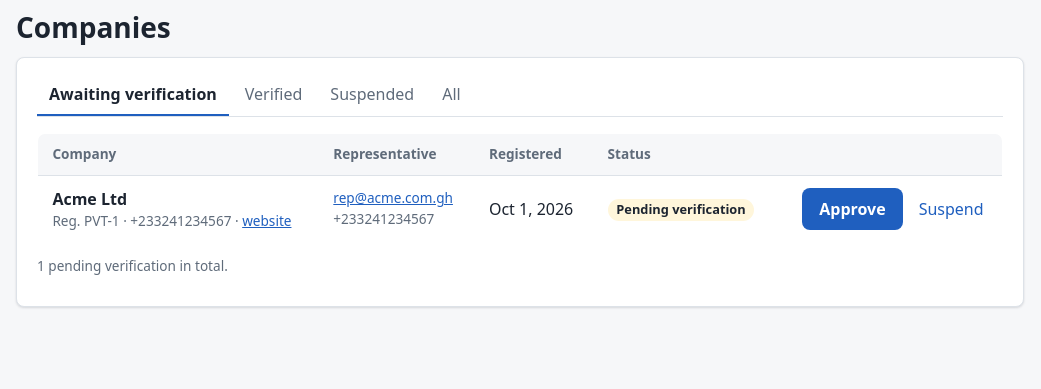
Test: CompaniesPage (US-04, US-12) › approves after confirmation and says the reps were notified
Click the button "Approve" at (852, 209), box [802,188,903,230]
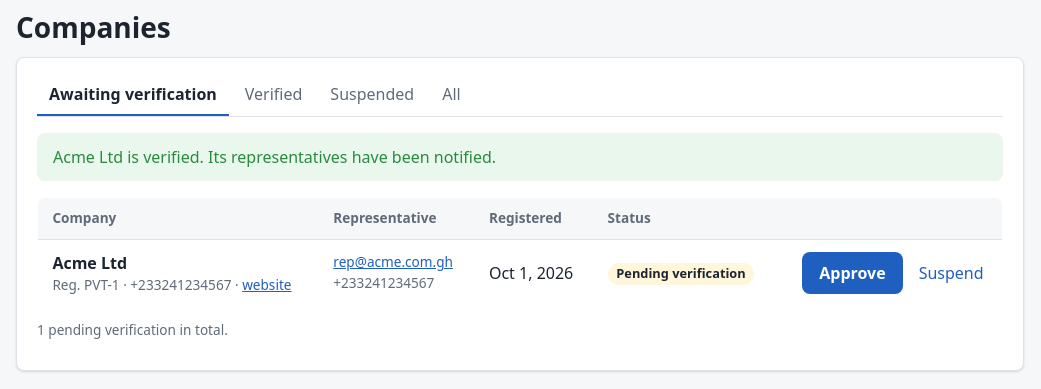
Now the text "Acme Ltd is verified. Its representatives have been notified." is shown, box [37,133,1003,181]
